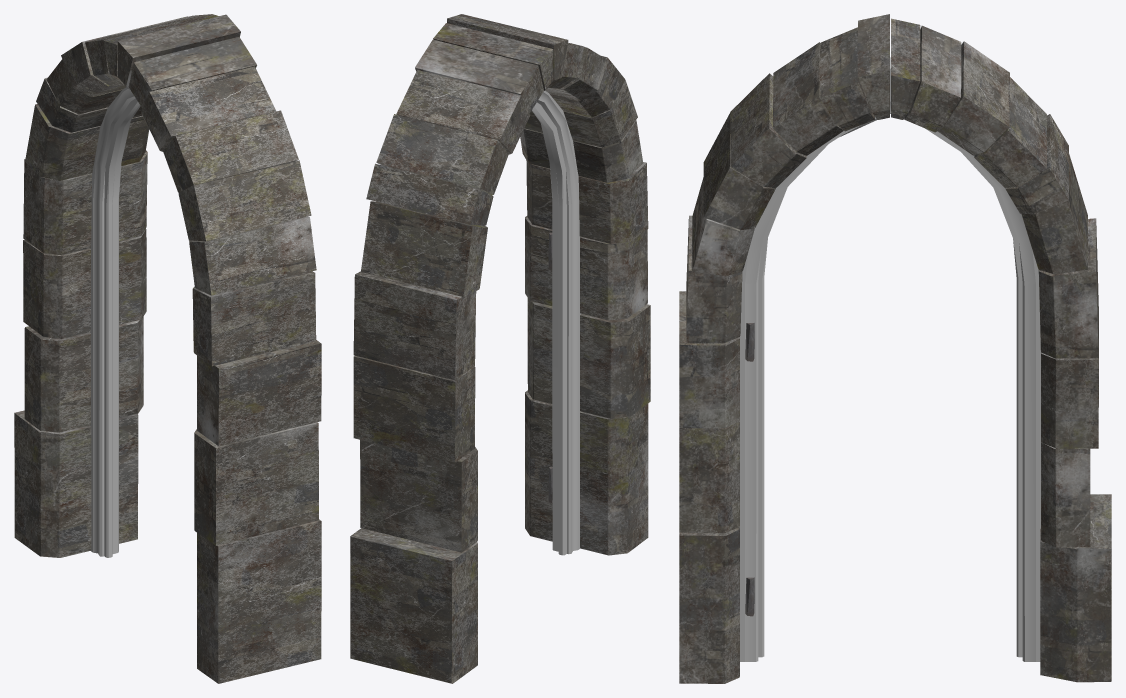
The model's file is SM_DoorFrame_A_01.fbx.
The picture shows the model from 3 angles, left to right: view 1: azimuth 30°, elevation 25°; view 2: azimuth 150°, elevation 25°; view 3: azimuth 270°, elevation 25°; orthographic projection. The views are drawn at different scales.
Visible parts, largest first — view 1: SM_DoorFrame_A_01_LOD0; view 2: SM_DoorFrame_A_01_LOD0; view 3: SM_DoorFrame_A_01_LOD0.
Boxes of the visible parts, left/top/right/bottom form: SM_DoorFrame_A_01_LOD0: left=14, top=14, right=321, bottom=683; SM_DoorFrame_A_01_LOD0: left=350, top=14, right=650, bottom=683; SM_DoorFrame_A_01_LOD0: left=679, top=14, right=1111, bottom=683.
Size of the model in its own units: 56.12 by 177 by 278.
